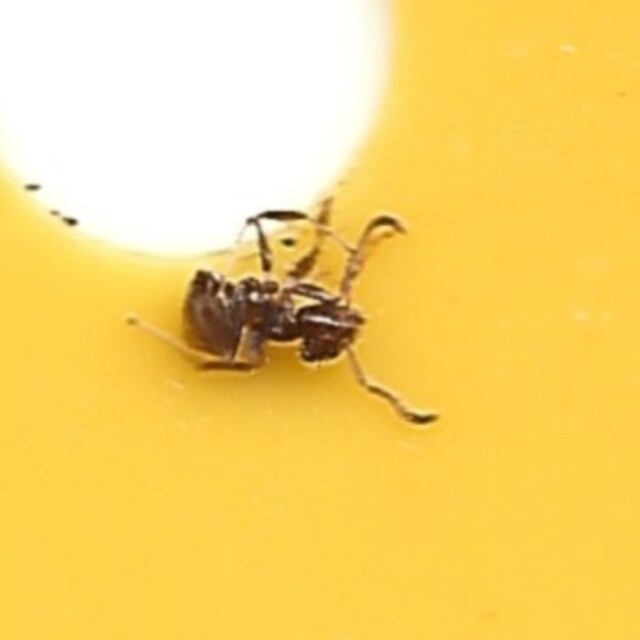Hymenoptera: (183, 201, 457, 439)
